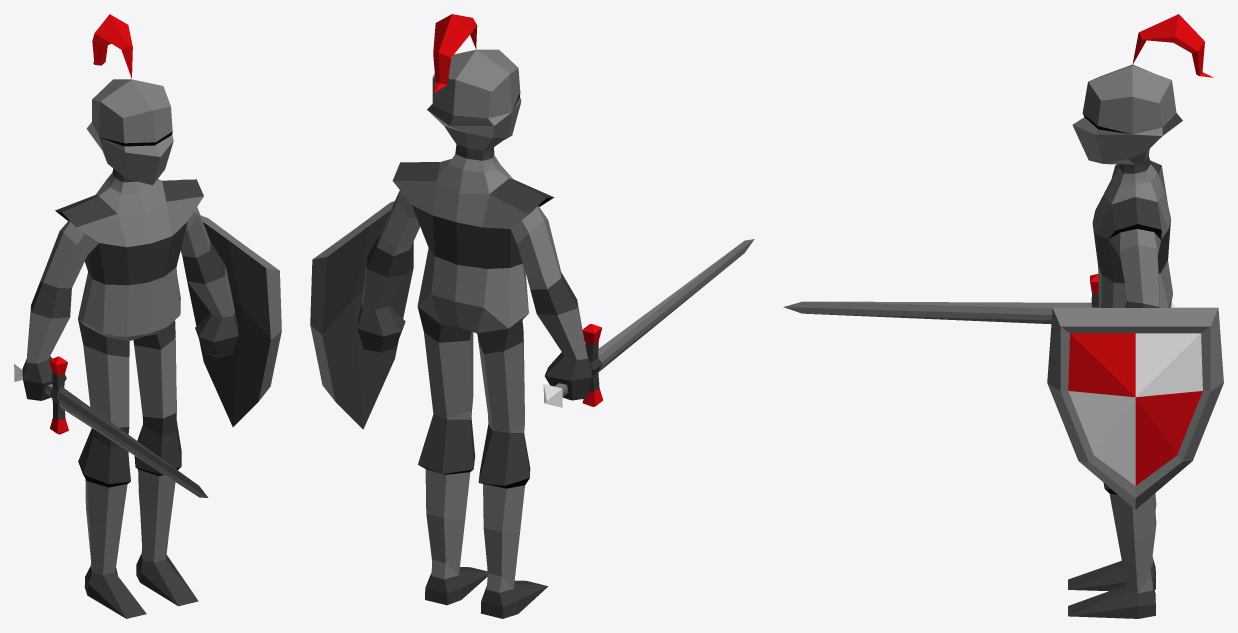
Rendered from Knight.fbx.
3 views of the same model, side by side, from view 1: azimuth 30°, elevation 25°; view 2: azimuth 150°, elevation 25°; view 3: azimuth 270°, elevation 25° (orthographic). The views are drawn at different scales.
Visible parts, largest first — view 1: Knight, Shield, Sword; view 2: Knight, Shield, Sword; view 3: Shield, Knight, Sword.
Boxes of the visible parts, x1,y1,x2,y2 form: Knight: [22, 14, 238, 618]; Shield: [187, 215, 281, 426]; Sword: [14, 356, 208, 497]; Knight: [357, 14, 591, 618]; Shield: [310, 201, 413, 429]; Sword: [543, 239, 754, 407]; Shield: [1047, 307, 1223, 509]; Knight: [1068, 14, 1213, 618]; Sword: [783, 274, 1176, 323].
Bounding box in the file's own units: 621 × 1420 × 972.
